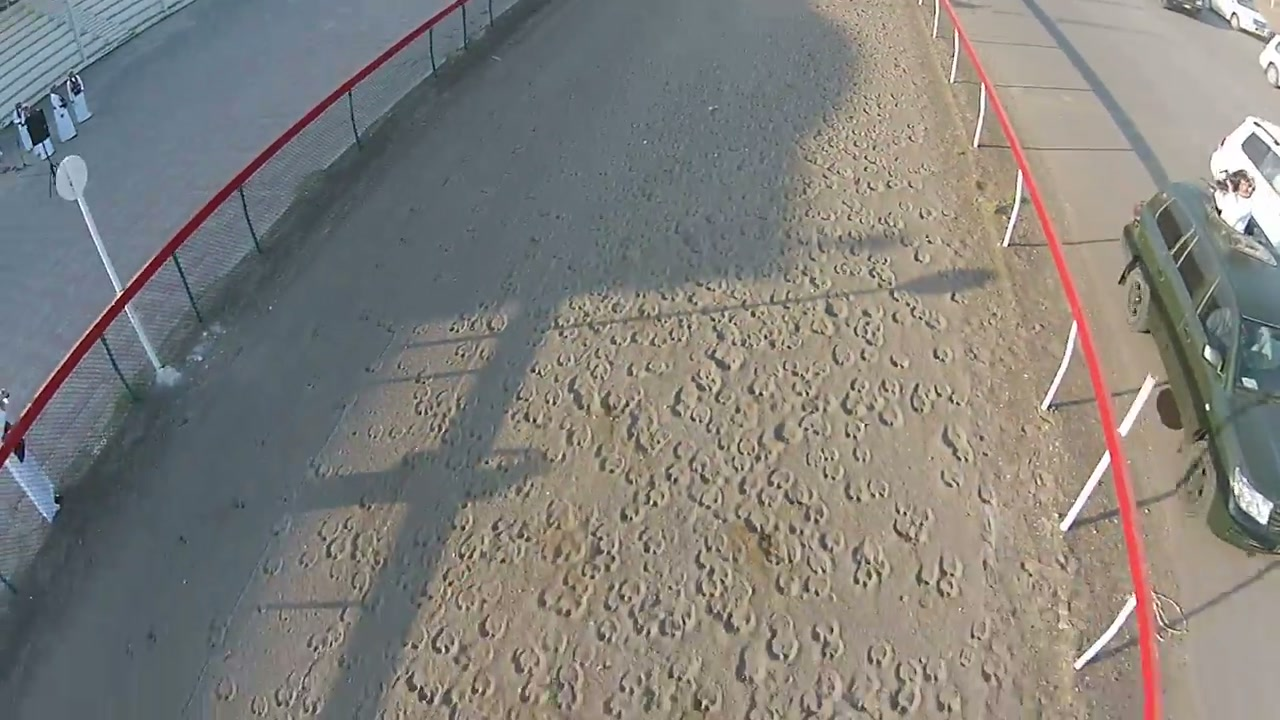animal_footprint: (270, 0, 1040, 719), (916, 550, 964, 598), (852, 539, 891, 589), (893, 502, 934, 544), (767, 613, 799, 663), (941, 423, 974, 463), (811, 620, 844, 660), (845, 475, 889, 502)
